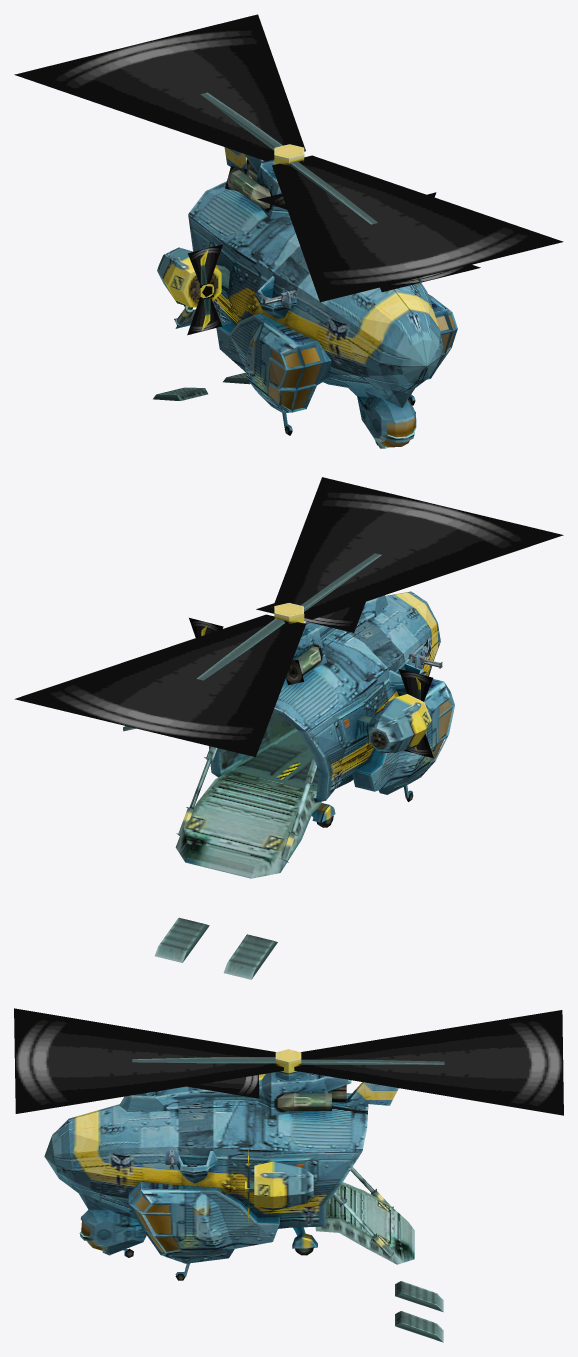
File: VXTPTH.obj
The picture shows the model from 3 angles, top to bottom: view 1: azimuth 30°, elevation 25°; view 2: azimuth 150°, elevation 25°; view 3: azimuth 270°, elevation 25°; orthographic projection. The views are drawn at different scales.
Parts seen in each view (by area): view 1: Node 3, Node 0, Node 2, Node 12, Node 6, Node 39, Node 1; view 2: Node 3, Node 0, Node 38, Node 39, Node 2, Node 6, Node 12, Node 40; view 3: Node 0, Node 3, Node 38, Node 39, Node 2, Node 6, Node 1, Node 40.
Boxes of the visible parts, left/top/right/bottom form: Node 3: left=14, top=14, right=563, bottom=302; Node 0: left=157, top=147, right=457, bottom=448; Node 2: left=200, top=92, right=422, bottom=283; Node 12: left=187, top=244, right=222, bottom=335; Node 6: left=257, top=193, right=480, bottom=292; Node 39: left=153, top=372, right=250, bottom=400; Node 1: left=274, top=144, right=304, bottom=176; Node 3: left=14, top=477, right=563, bottom=756; Node 0: left=209, top=591, right=454, bottom=827; Node 38: left=175, top=770, right=321, bottom=878; Node 39: left=155, top=917, right=277, bottom=979; Node 2: left=123, top=553, right=381, bottom=731; Node 6: left=256, top=601, right=365, bottom=632; Node 12: left=398, top=669, right=433, bottom=758; Node 40: left=176, top=759, right=310, bottom=862; Node 0: left=44, top=1072, right=398, bottom=1280; Node 3: left=14, top=1008, right=563, bottom=1115; Node 38: left=315, top=1182, right=414, bottom=1264; Node 39: left=395, top=1281, right=443, bottom=1342; Node 2: left=132, top=1057, right=444, bottom=1064; Node 6: left=187, top=1075, right=259, bottom=1098; Node 1: left=275, top=1049, right=301, bottom=1080; Node 40: left=343, top=1167, right=393, bottom=1258.
Bounding box in the file's own units: 13.57 × 14.95 × 28.05.
